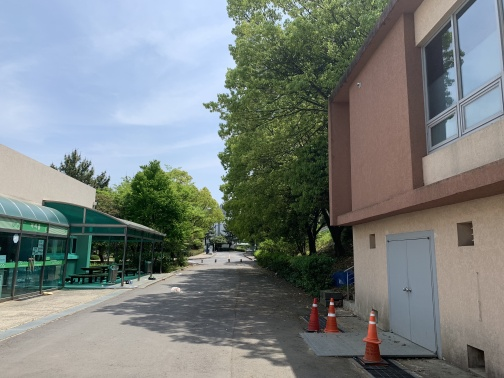Ara Hall: (1, 178, 167, 308)
